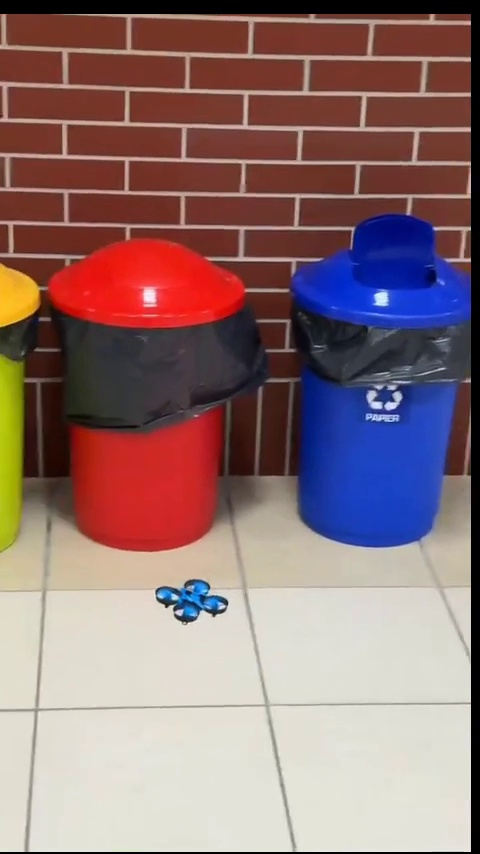drone: (157, 582, 230, 625)
